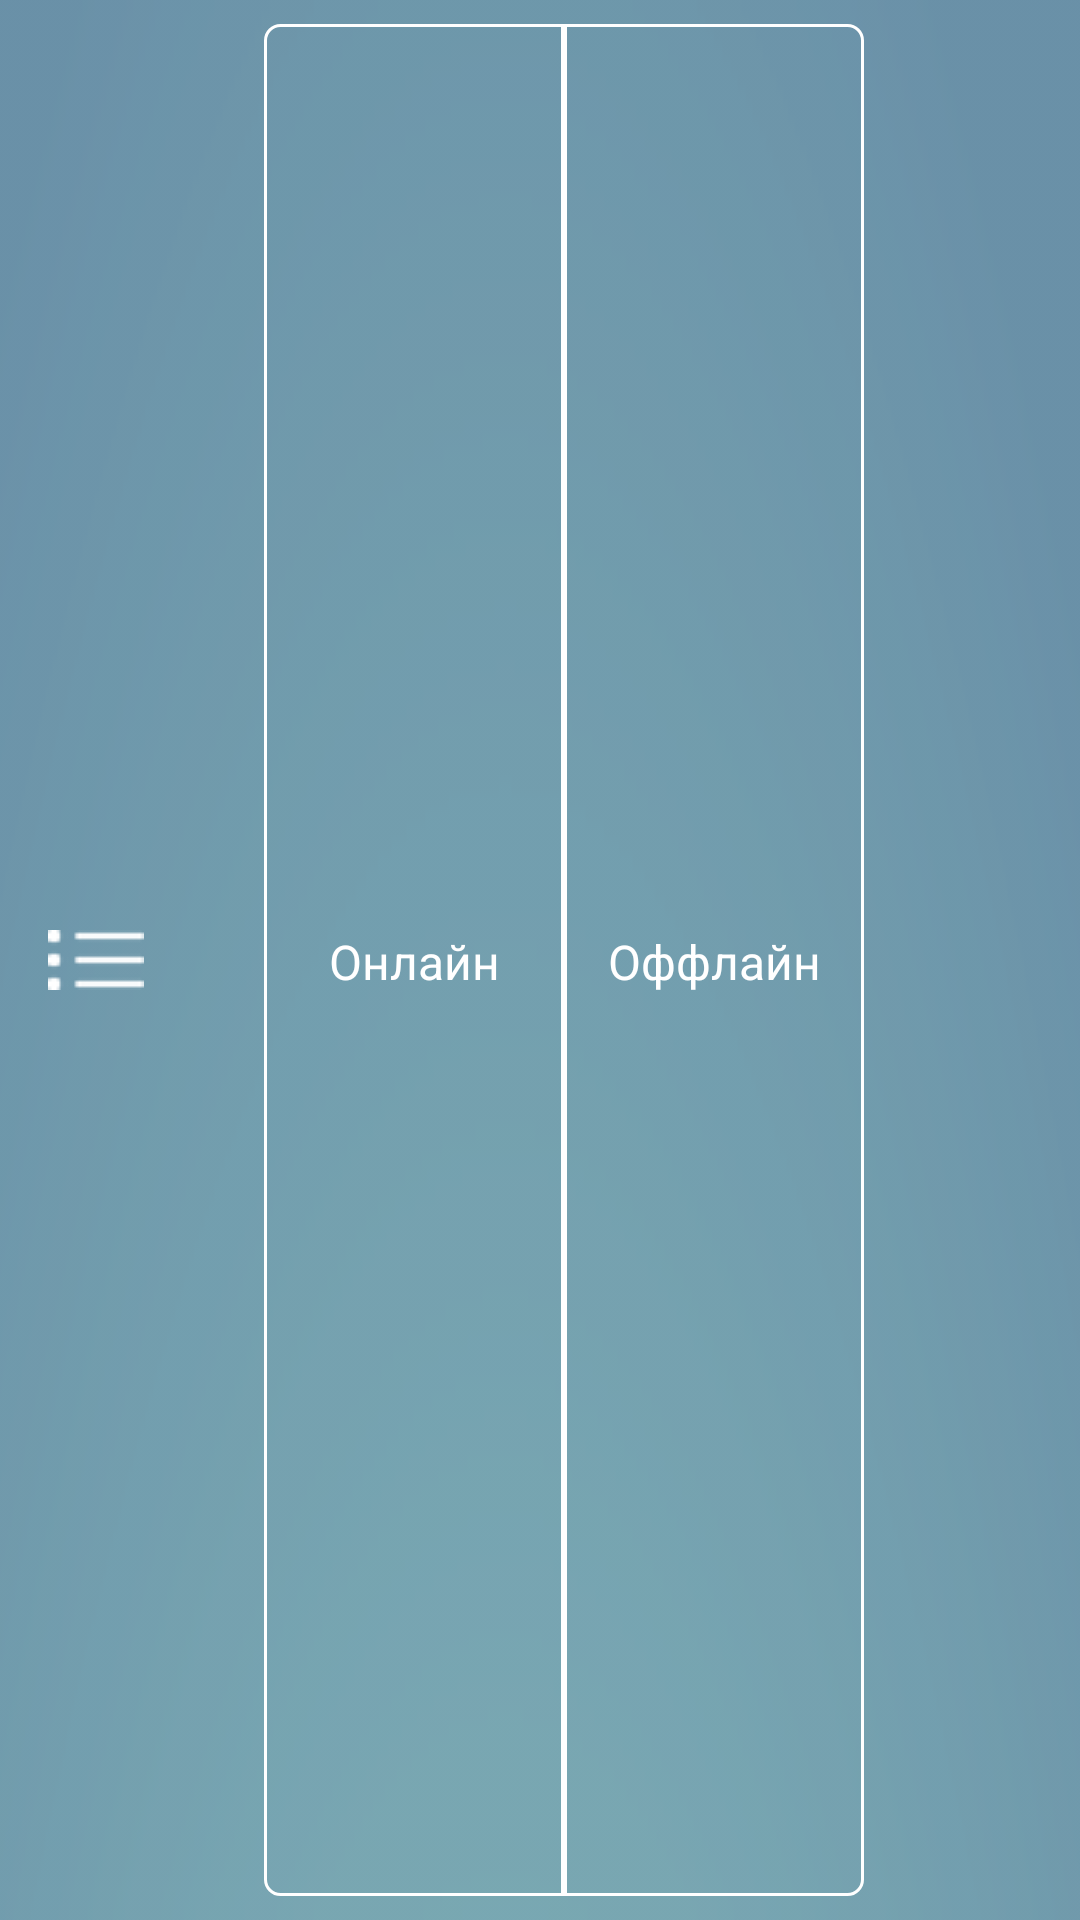

Icon click points for this 1080x1920 phone screenshot, format [x,y]:
menu: [96,960]
